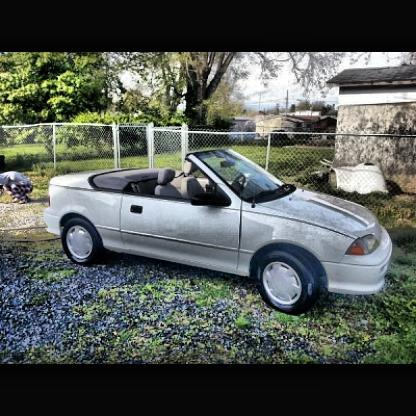Geo Metro Convertible 1993: (46, 151, 392, 310)
